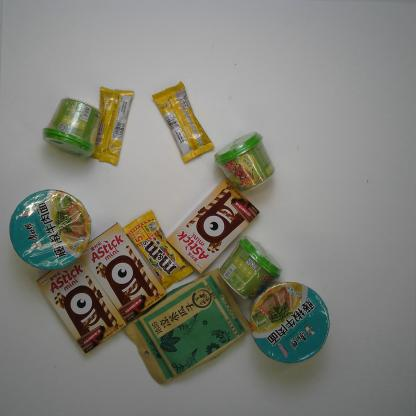Chocolate: (122, 209, 194, 290), (150, 80, 216, 164), (89, 85, 135, 167)
Dessert: (166, 177, 260, 275), (35, 255, 127, 355), (80, 221, 168, 324)
Dried Food: (122, 266, 252, 387)
Instant Drink: (219, 234, 284, 301), (41, 96, 105, 160), (213, 131, 276, 193)
Instant Noodles: (8, 188, 92, 270), (248, 280, 330, 364)
